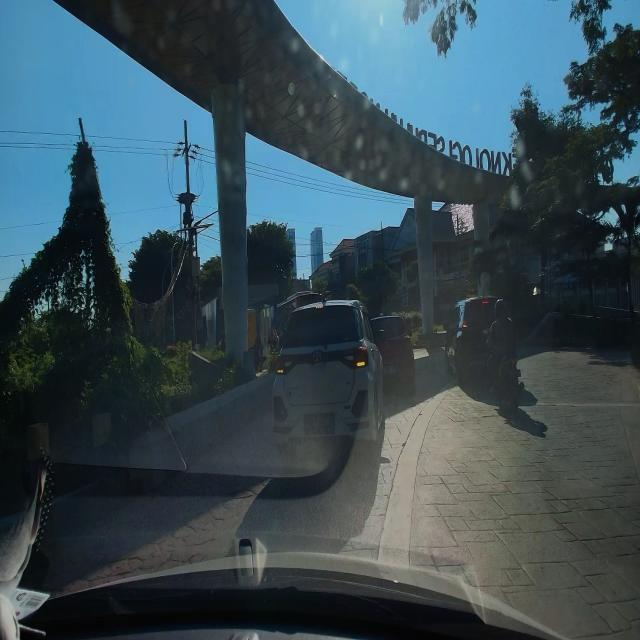car: (271, 296, 383, 472)
